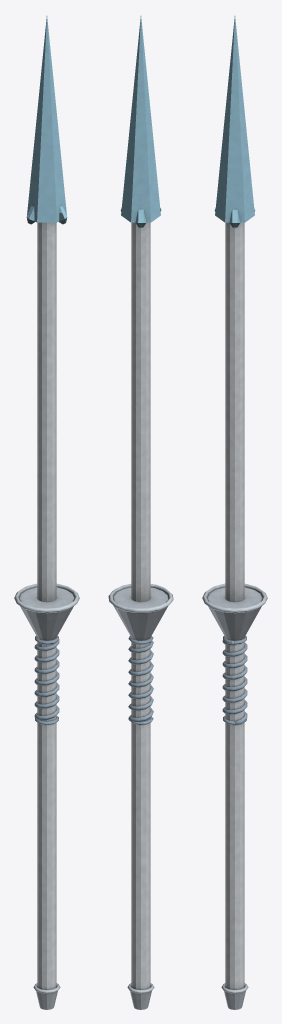
Rendered from 04_tundra_spear.fbx.
The picture shows the model from 3 angles, left to right: view 1: azimuth 90°, elevation 25°; view 2: azimuth 150°, elevation 25°; view 3: azimuth 270°, elevation 25°; orthographic projection.
Parts seen in each view (by area): view 1: Weapon; view 2: Weapon; view 3: Weapon.
Part boxes in pixels (x1,y1,x2,y2): Weapon: (14,16,79,1009); Weapon: (108,16,173,1009); Weapon: (202,16,267,1009).
Bounding box in the file's own units: 13.45 × 224 × 13.45.
2 materials, 1 textured.
